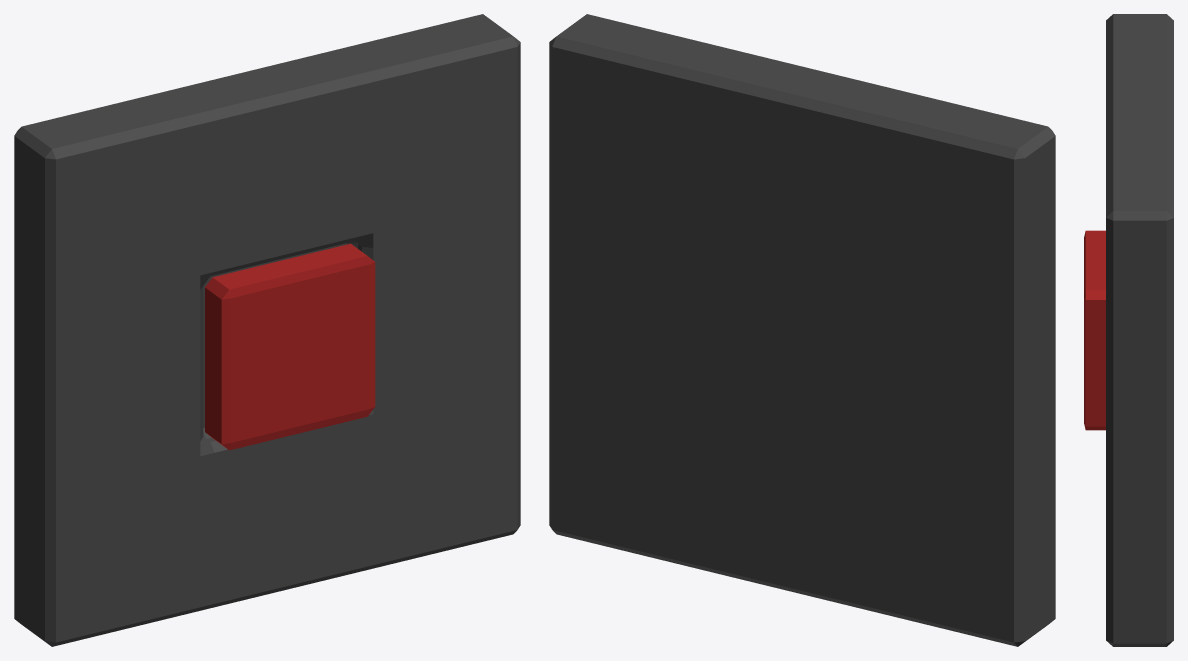
The model's file is ElevatorSwitch.fbx.
The picture shows the model from 3 angles, left to right: view 1: azimuth 30°, elevation 25°; view 2: azimuth 150°, elevation 25°; view 3: azimuth 270°, elevation 25°; orthographic projection. The views are drawn at different scales.
Parts seen in each view (by area): view 1: ElevatorSwitch; view 2: ElevatorSwitch; view 3: ElevatorSwitch.
Part boxes in pixels (bbox=[...]): ElevatorSwitch: bbox=[14, 14, 520, 646]; ElevatorSwitch: bbox=[549, 14, 1055, 646]; ElevatorSwitch: bbox=[1084, 14, 1173, 646].
Bounding box in the file's own units: 78.91 × 78.91 × 14.76.
